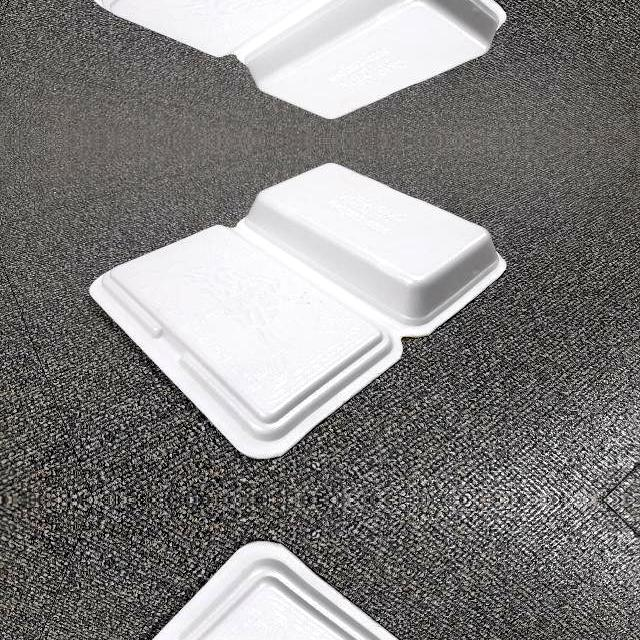Styrofoam: (90, 162, 506, 460), (89, 162, 507, 458), (90, 0, 505, 118), (94, 0, 507, 118), (90, 537, 505, 640), (152, 540, 400, 640)
